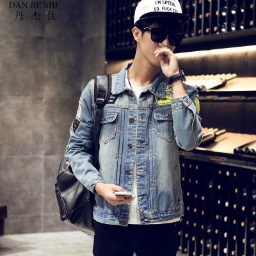face: (128, 13, 186, 69)
